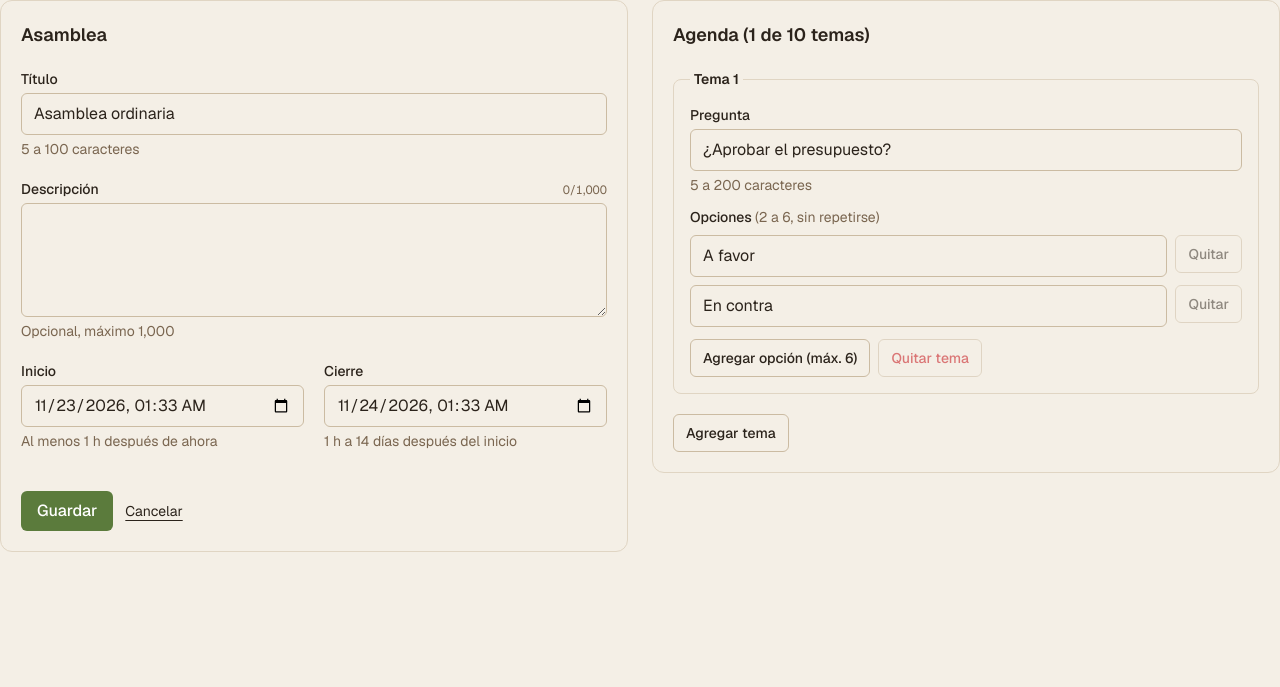
it: H22. Convocatoria de asambleas con temas a votar › AC2: Agregar opción se deshabilita al llegar a 6 opciones
Click the button "Agregar opción (máx. 6)" at (780, 358), box 690,339 -> 870,377
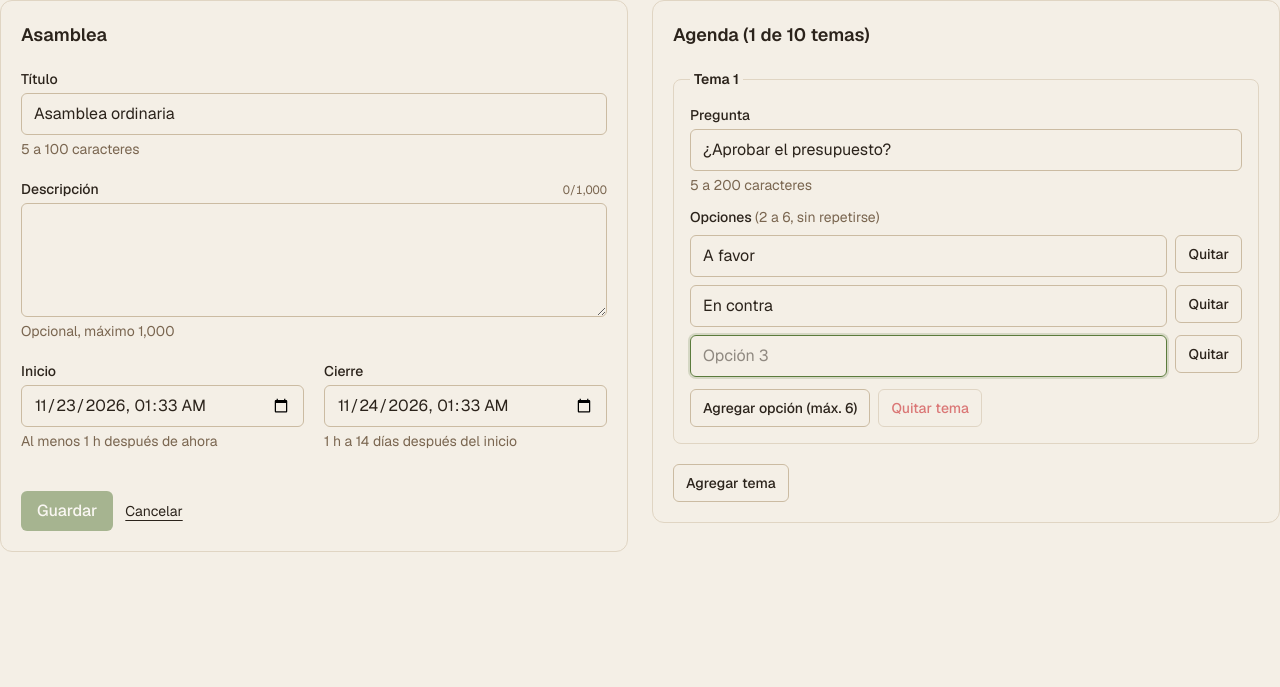
Click the button "Agregar opción (máx. 6)" at (780, 408), box 690,389 -> 870,427
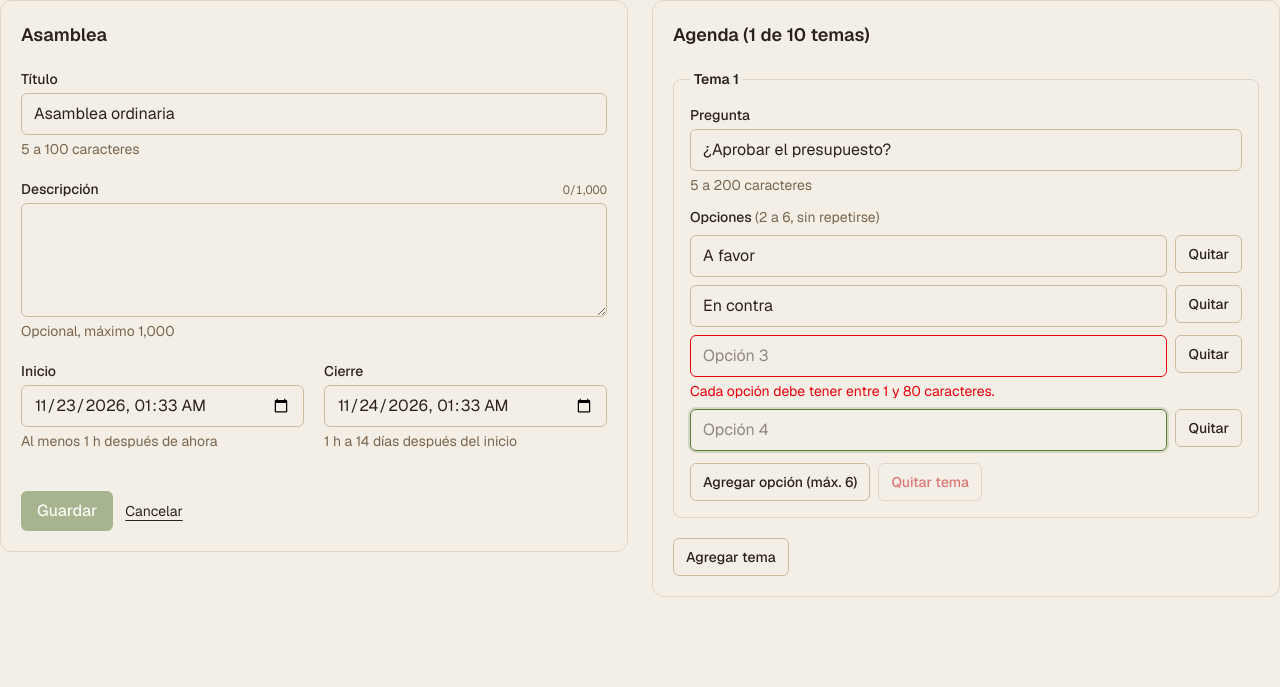
Click the button "Agregar opción (máx. 6)" at (780, 482), box 690,463 -> 870,501
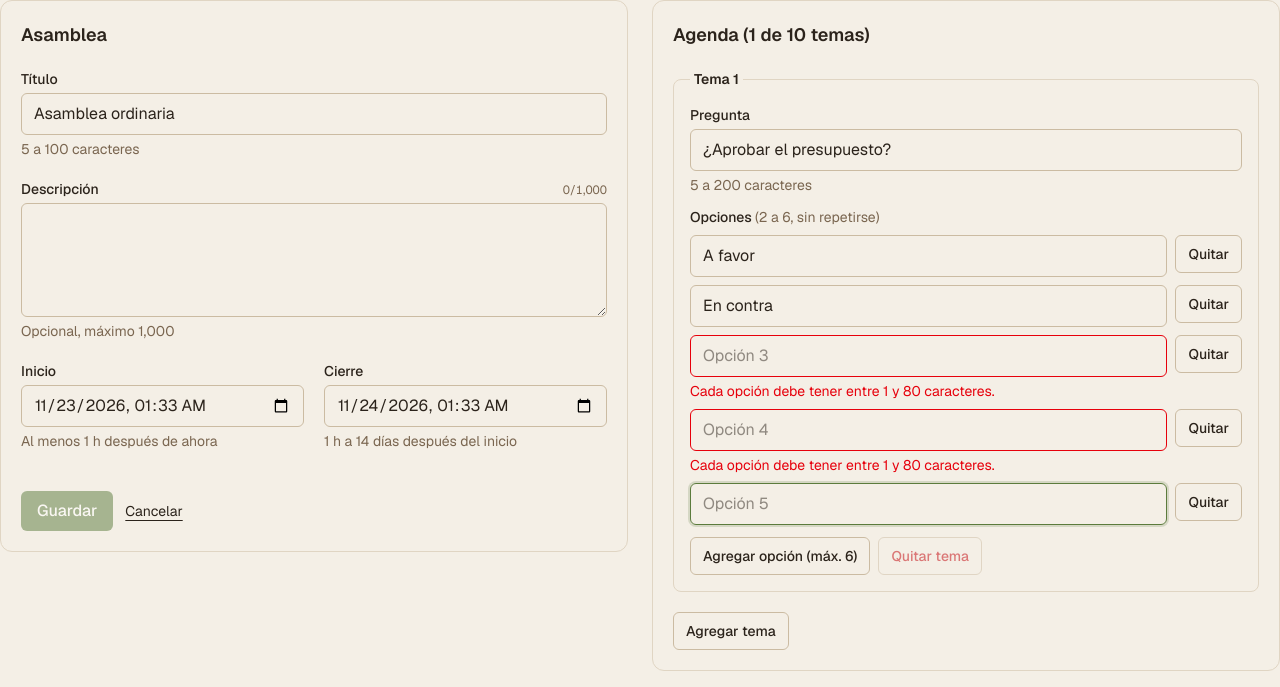
Click the button "Agregar opción (máx. 6)" at (780, 556), box 690,537 -> 870,575
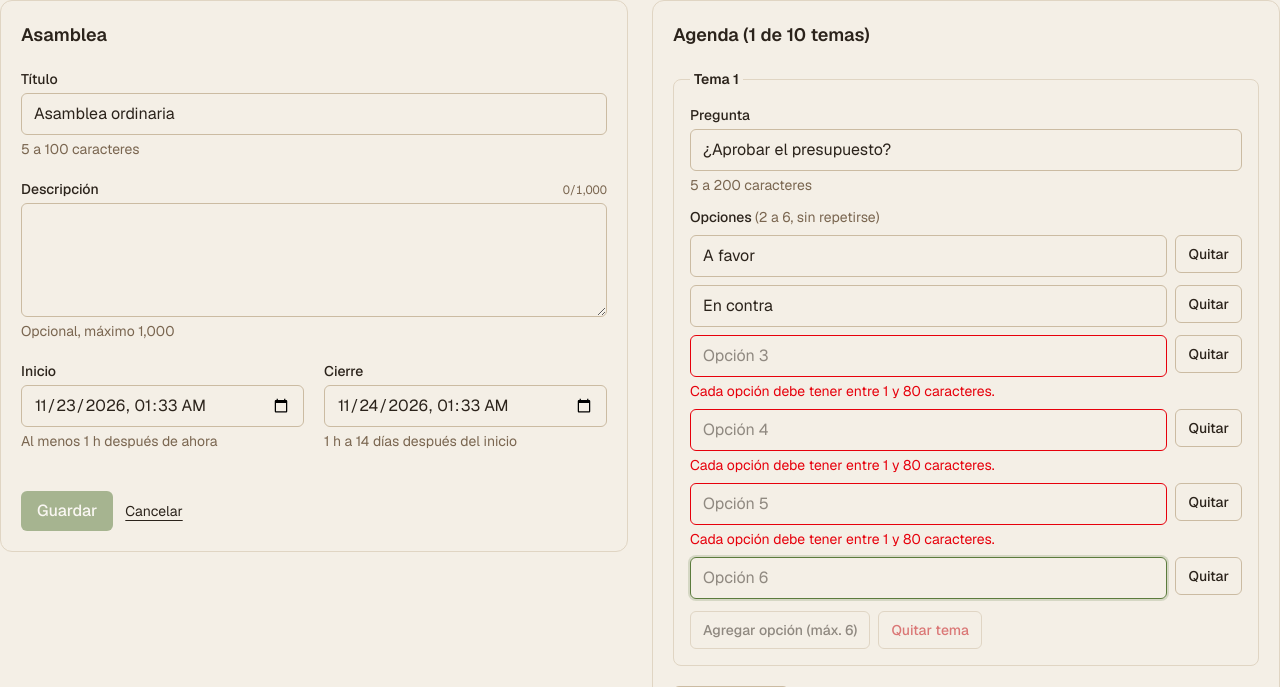
Expected: the field named "Opción 6 del tema 1" is shown, 690,557 -> 1168,599
Expected: the button "Agregar opción (máx. 6)" is disabled, 690,611 -> 870,649
